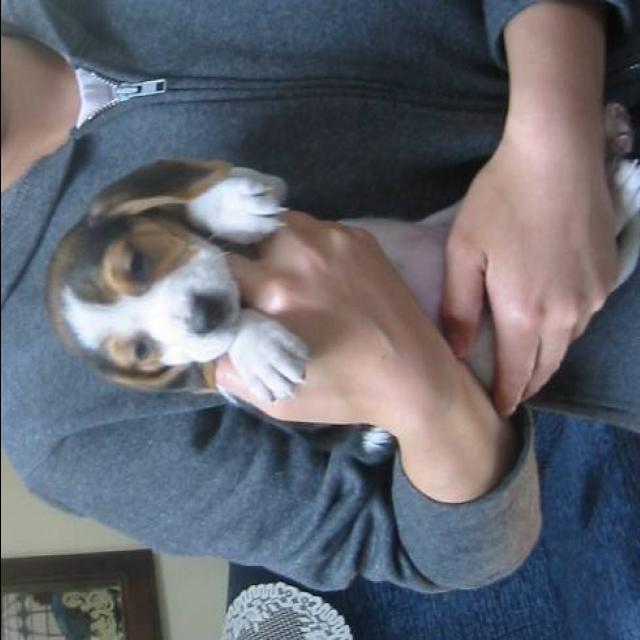dog: (37, 146, 463, 448)
